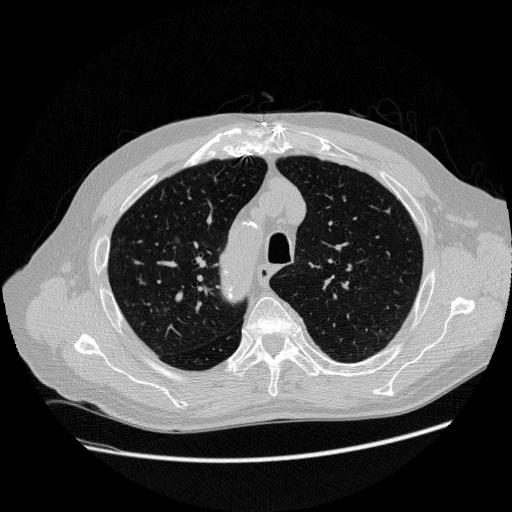nodule: (173, 234, 186, 247)
